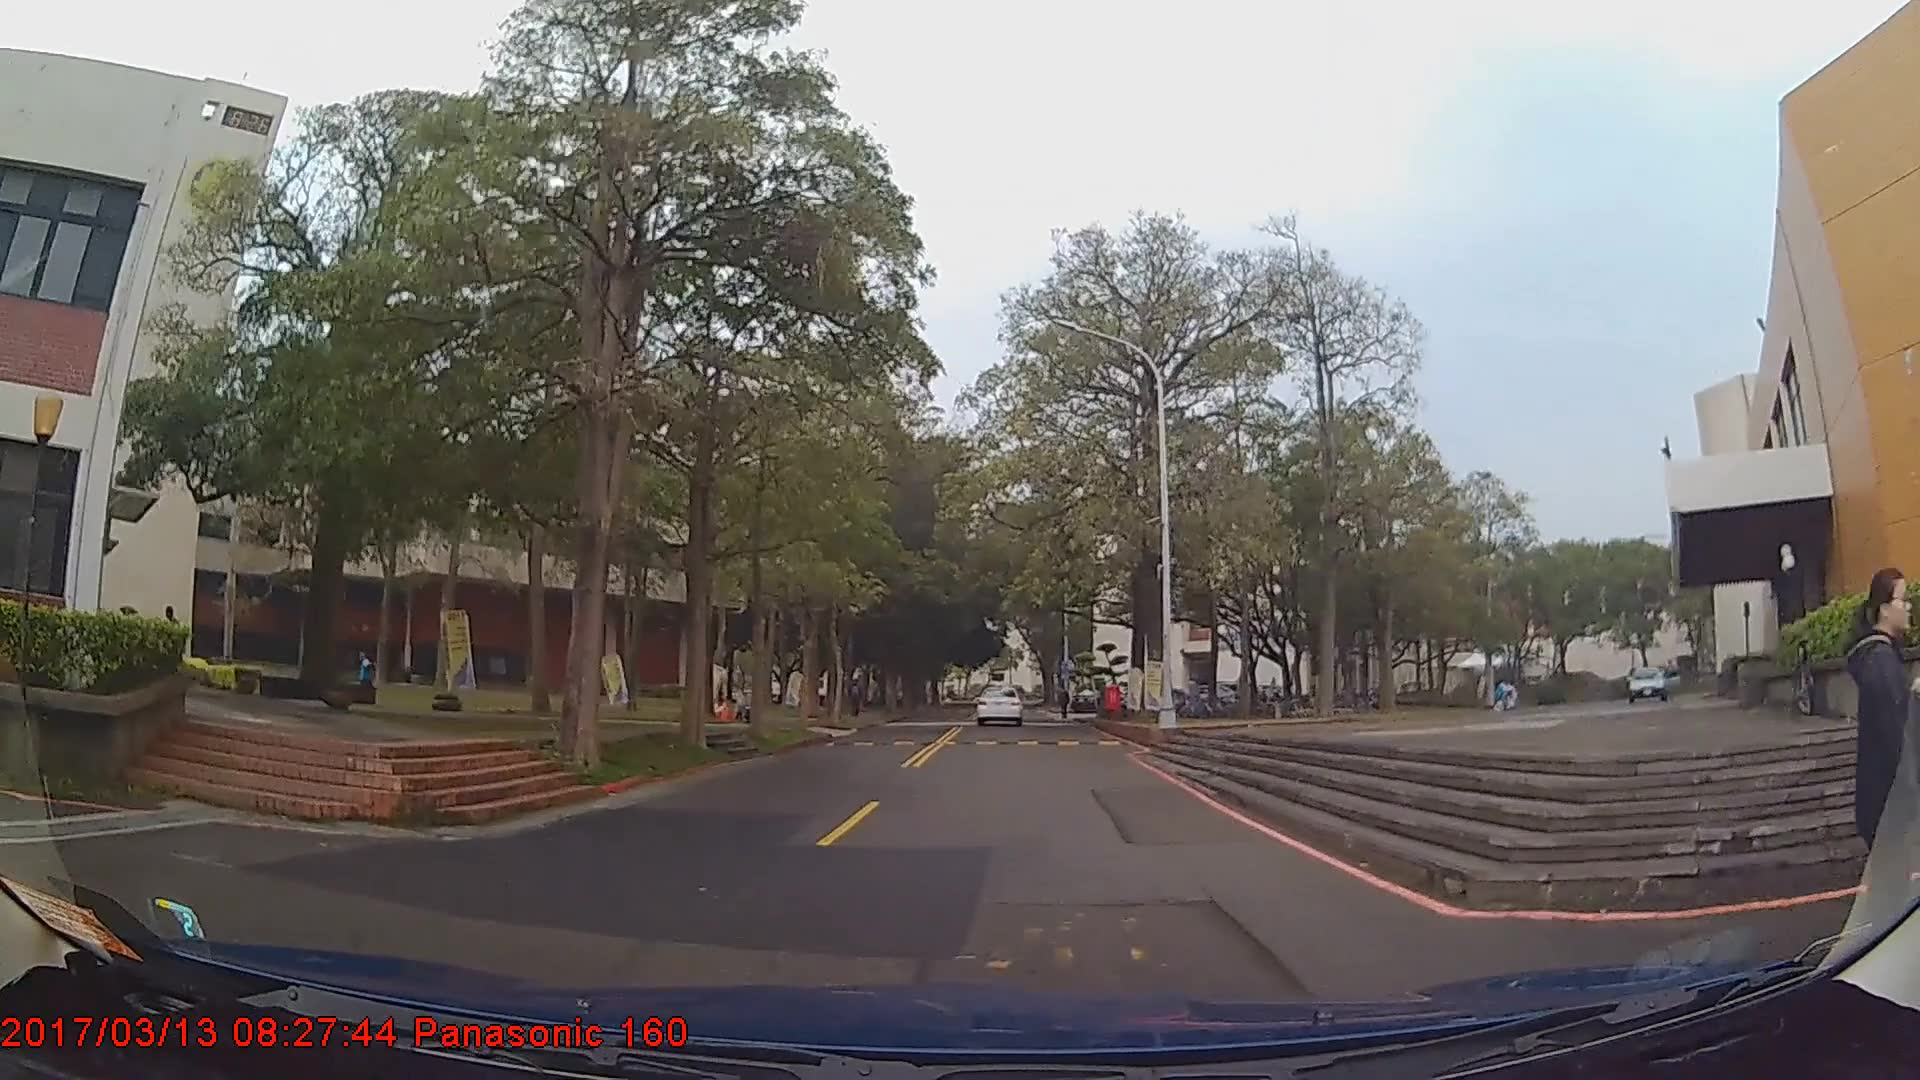pedestrian: (1841, 564, 1919, 997)
vehicle: (1621, 662, 1686, 703), (976, 682, 1024, 725)
